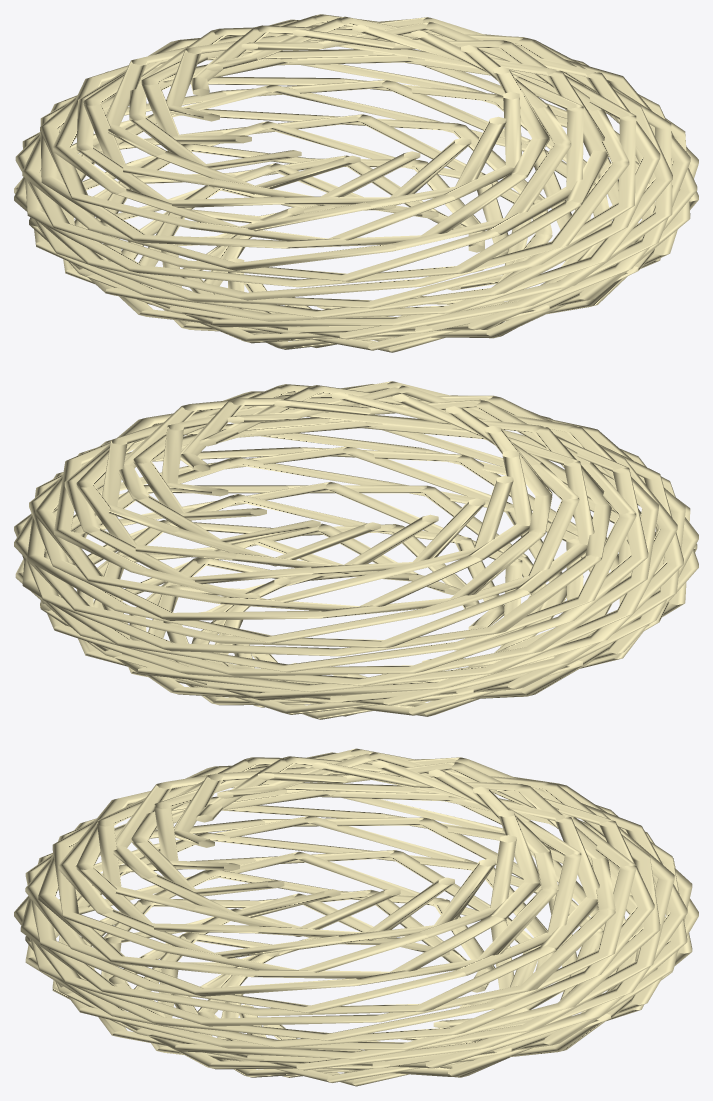
Rendered from noodles.glb.
3 renders of one model, top to bottom at view 1: azimuth 30°, elevation 25°; view 2: azimuth 150°, elevation 25°; view 3: azimuth 270°, elevation 25°, orthographic.
Visible parts, largest first — view 1: Noodle_Nest; view 2: Noodle_Nest; view 3: Noodle_Nest.
Boxes of the visible parts, box(x1,y1,x2,y2) form: Noodle_Nest: box(14, 14, 698, 352); Noodle_Nest: box(14, 381, 698, 719); Noodle_Nest: box(14, 748, 698, 1086).
Bounding box in the file's own units: 0.1028 × 0.029 × 0.1024.
